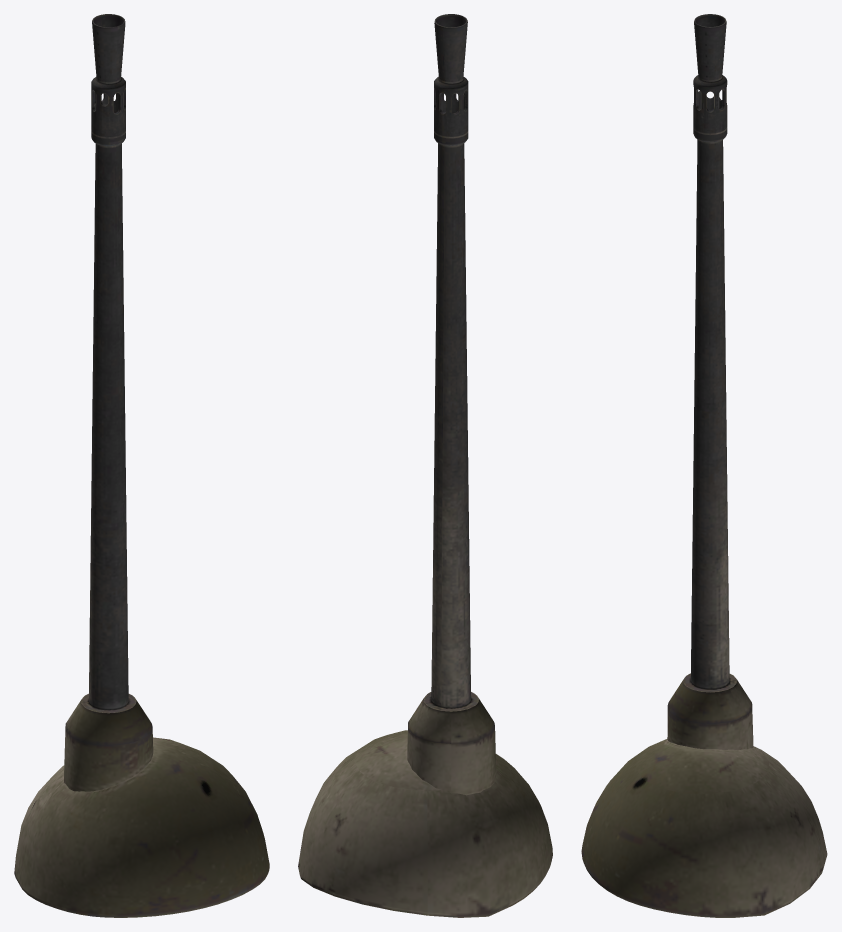
Rendered from Gun_01.glb.
The picture shows the model from 3 angles, left to right: view 1: azimuth 30°, elevation 25°; view 2: azimuth 150°, elevation 25°; view 3: azimuth 270°, elevation 25°; orthographic projection. The views are drawn at different scales.
Visible parts, largest first — view 1: set_0_group_0; view 2: set_0_group_0; view 3: set_0_group_0.
Part boxes in pixels (x1,y1,x2,y2): set_0_group_0: (14, 14, 269, 917); set_0_group_0: (298, 14, 552, 917); set_0_group_0: (581, 14, 827, 917).
Bounding box in the file's own units: 0.366 × 1.39 × 0.3714.
Materials: 1 (1 with a texture image).
